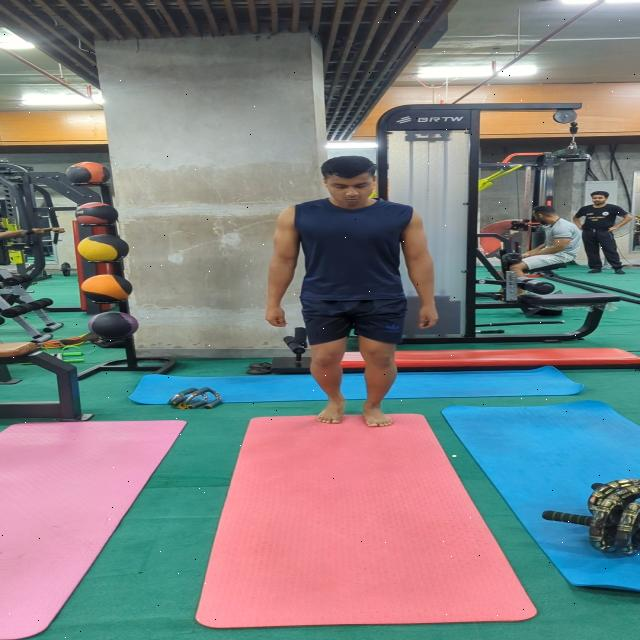Normal_Lunges: (249, 148, 453, 436)
